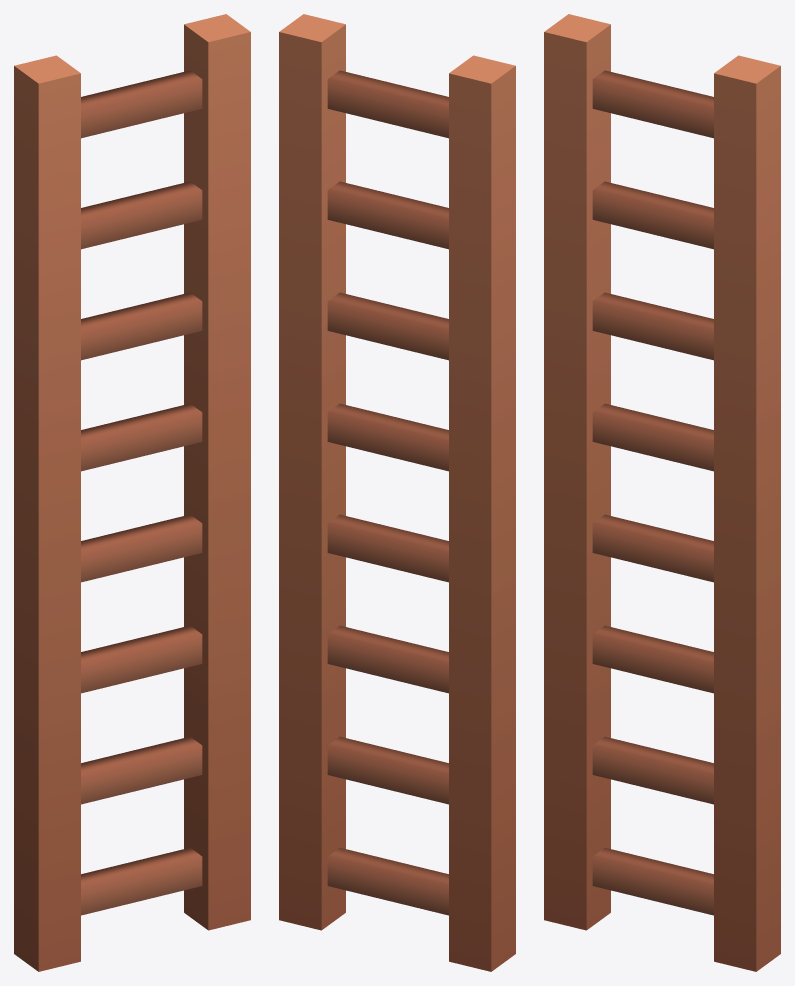
Rendered from kenney-platformer-ladder-long.glb.
The picture shows the model from 3 angles, left to right: view 1: azimuth 30°, elevation 25°; view 2: azimuth 150°, elevation 25°; view 3: azimuth 330°, elevation 25°; orthographic projection.
Parts seen in each view (by area): view 1: ladder-long; view 2: ladder-long; view 3: ladder-long.
Part boxes in pixels (x1=…): ladder-long: x1=14, y1=14, x2=250, y2=971; ladder-long: x1=279, y1=14, x2=515, y2=971; ladder-long: x1=544, y1=14, x2=780, y2=971.
Size of the model in its own units: 0.5001 by 2 by 0.1001.
1 material, 1 textured.
